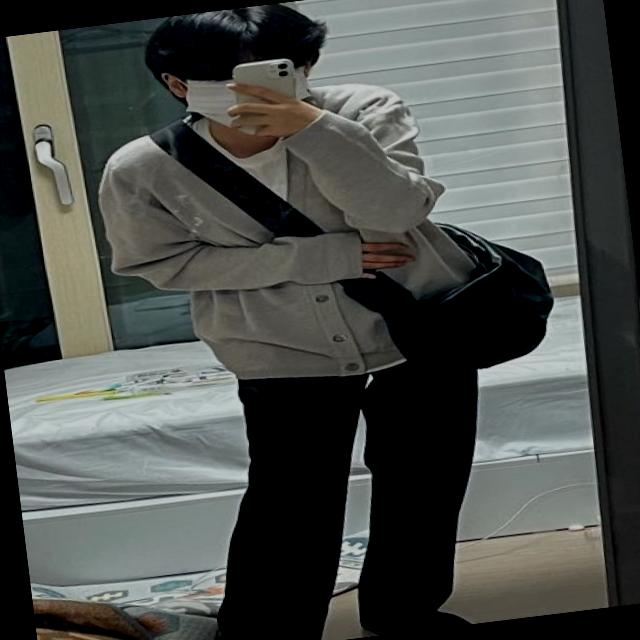cardigan: (87, 68, 462, 399)
slacks: (173, 344, 513, 640)
